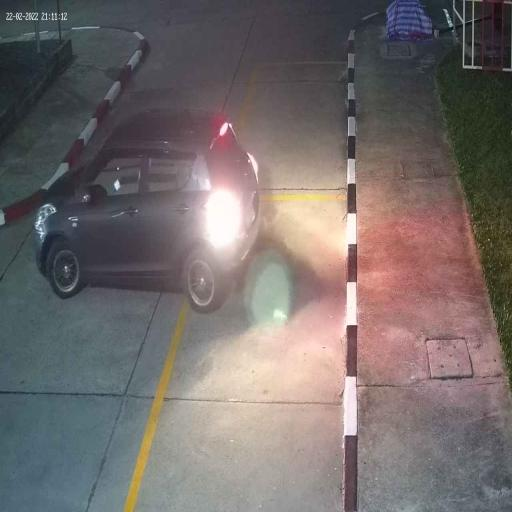car: (32, 109, 262, 306)
